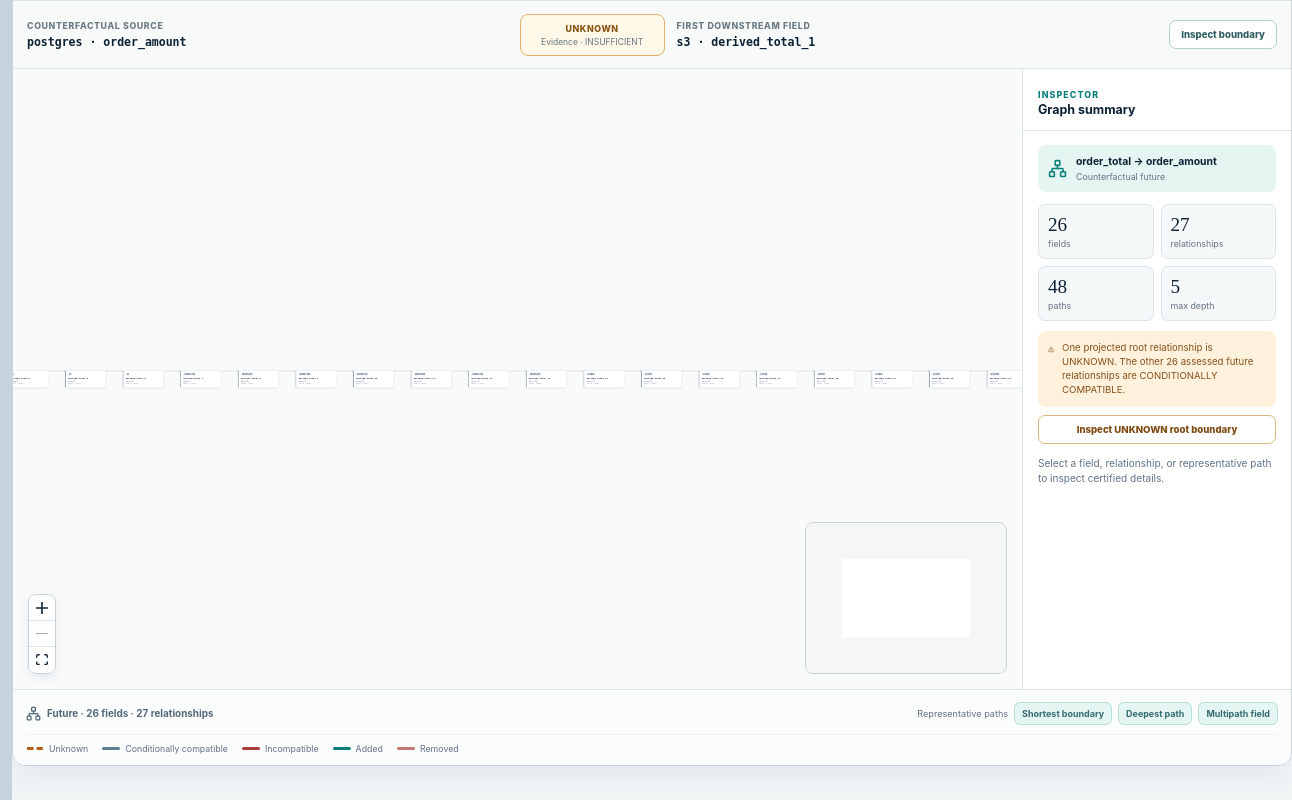
it: GraphWorkspace › selects the shortest representative certified path
The width and height of the screenshot is (1292, 800).
(page scrolled)
Expected: the text "Graph summary" is shown, [1038,102,1136,117]
Click the button "Shortest boundary". click: (1063, 713)
box: [1014,702,1112,724]
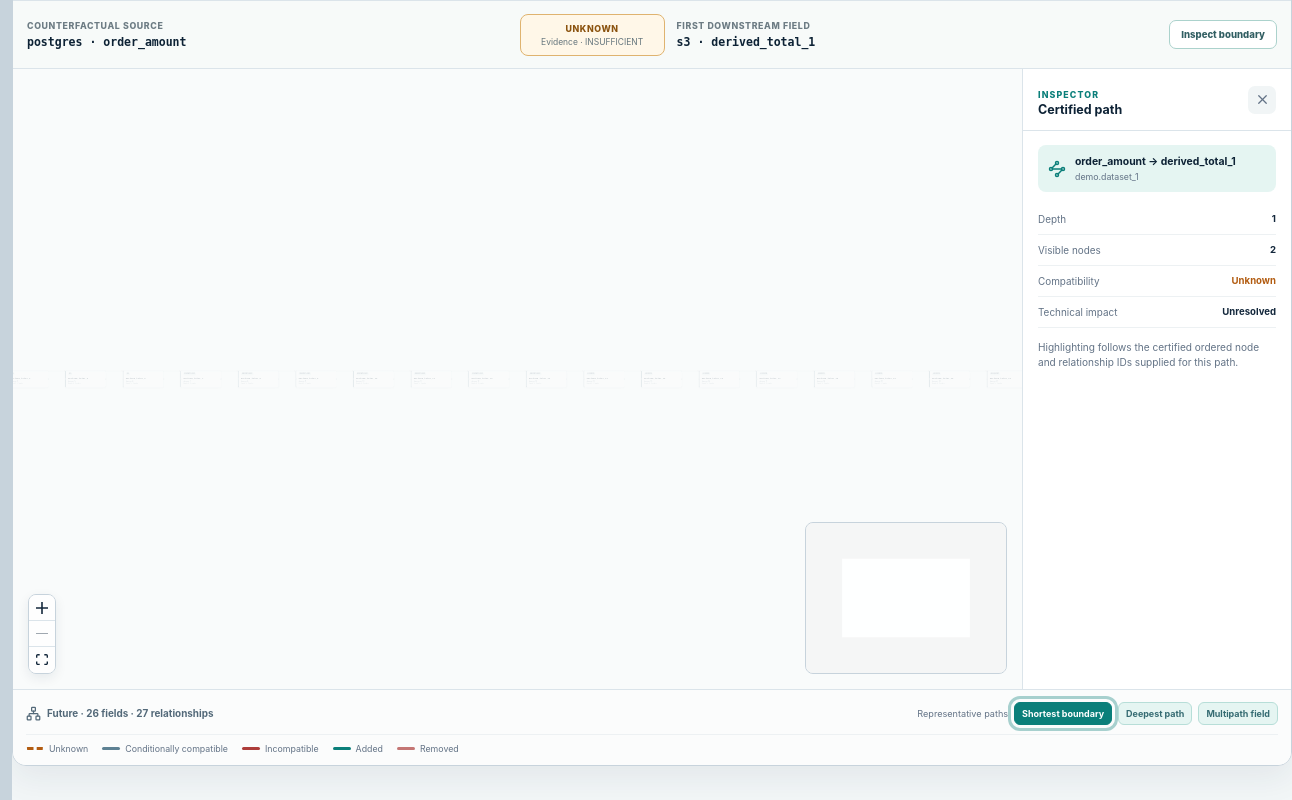
Expected: the text "Certified path" is shown, [1038,102,1122,117]
